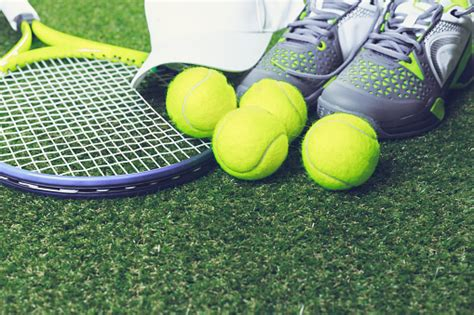tennis_ball: (300, 112, 381, 194), (212, 106, 289, 181), (164, 66, 238, 137), (239, 78, 307, 141)
